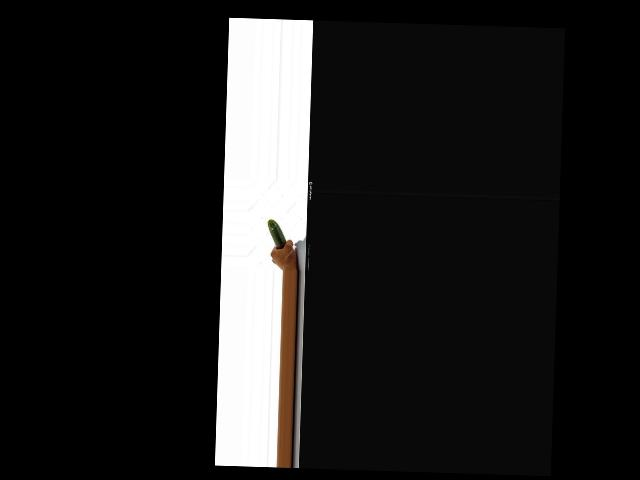cucumber: (267, 219, 287, 249)
